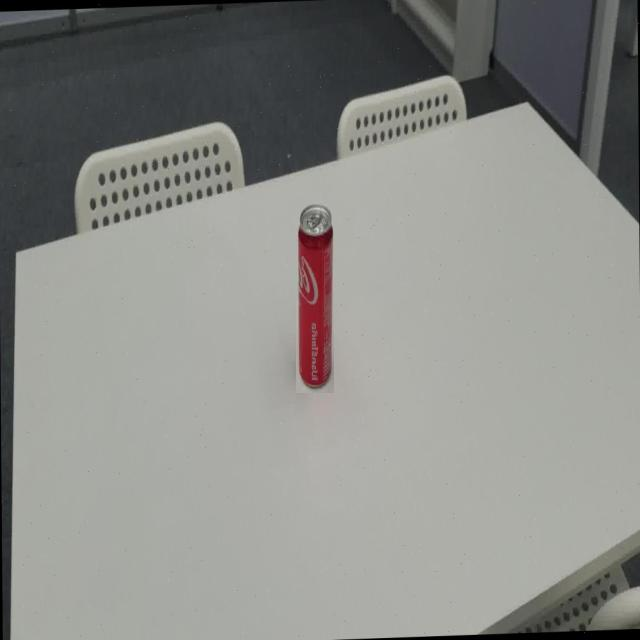coca-cola: (296, 202, 334, 393)
